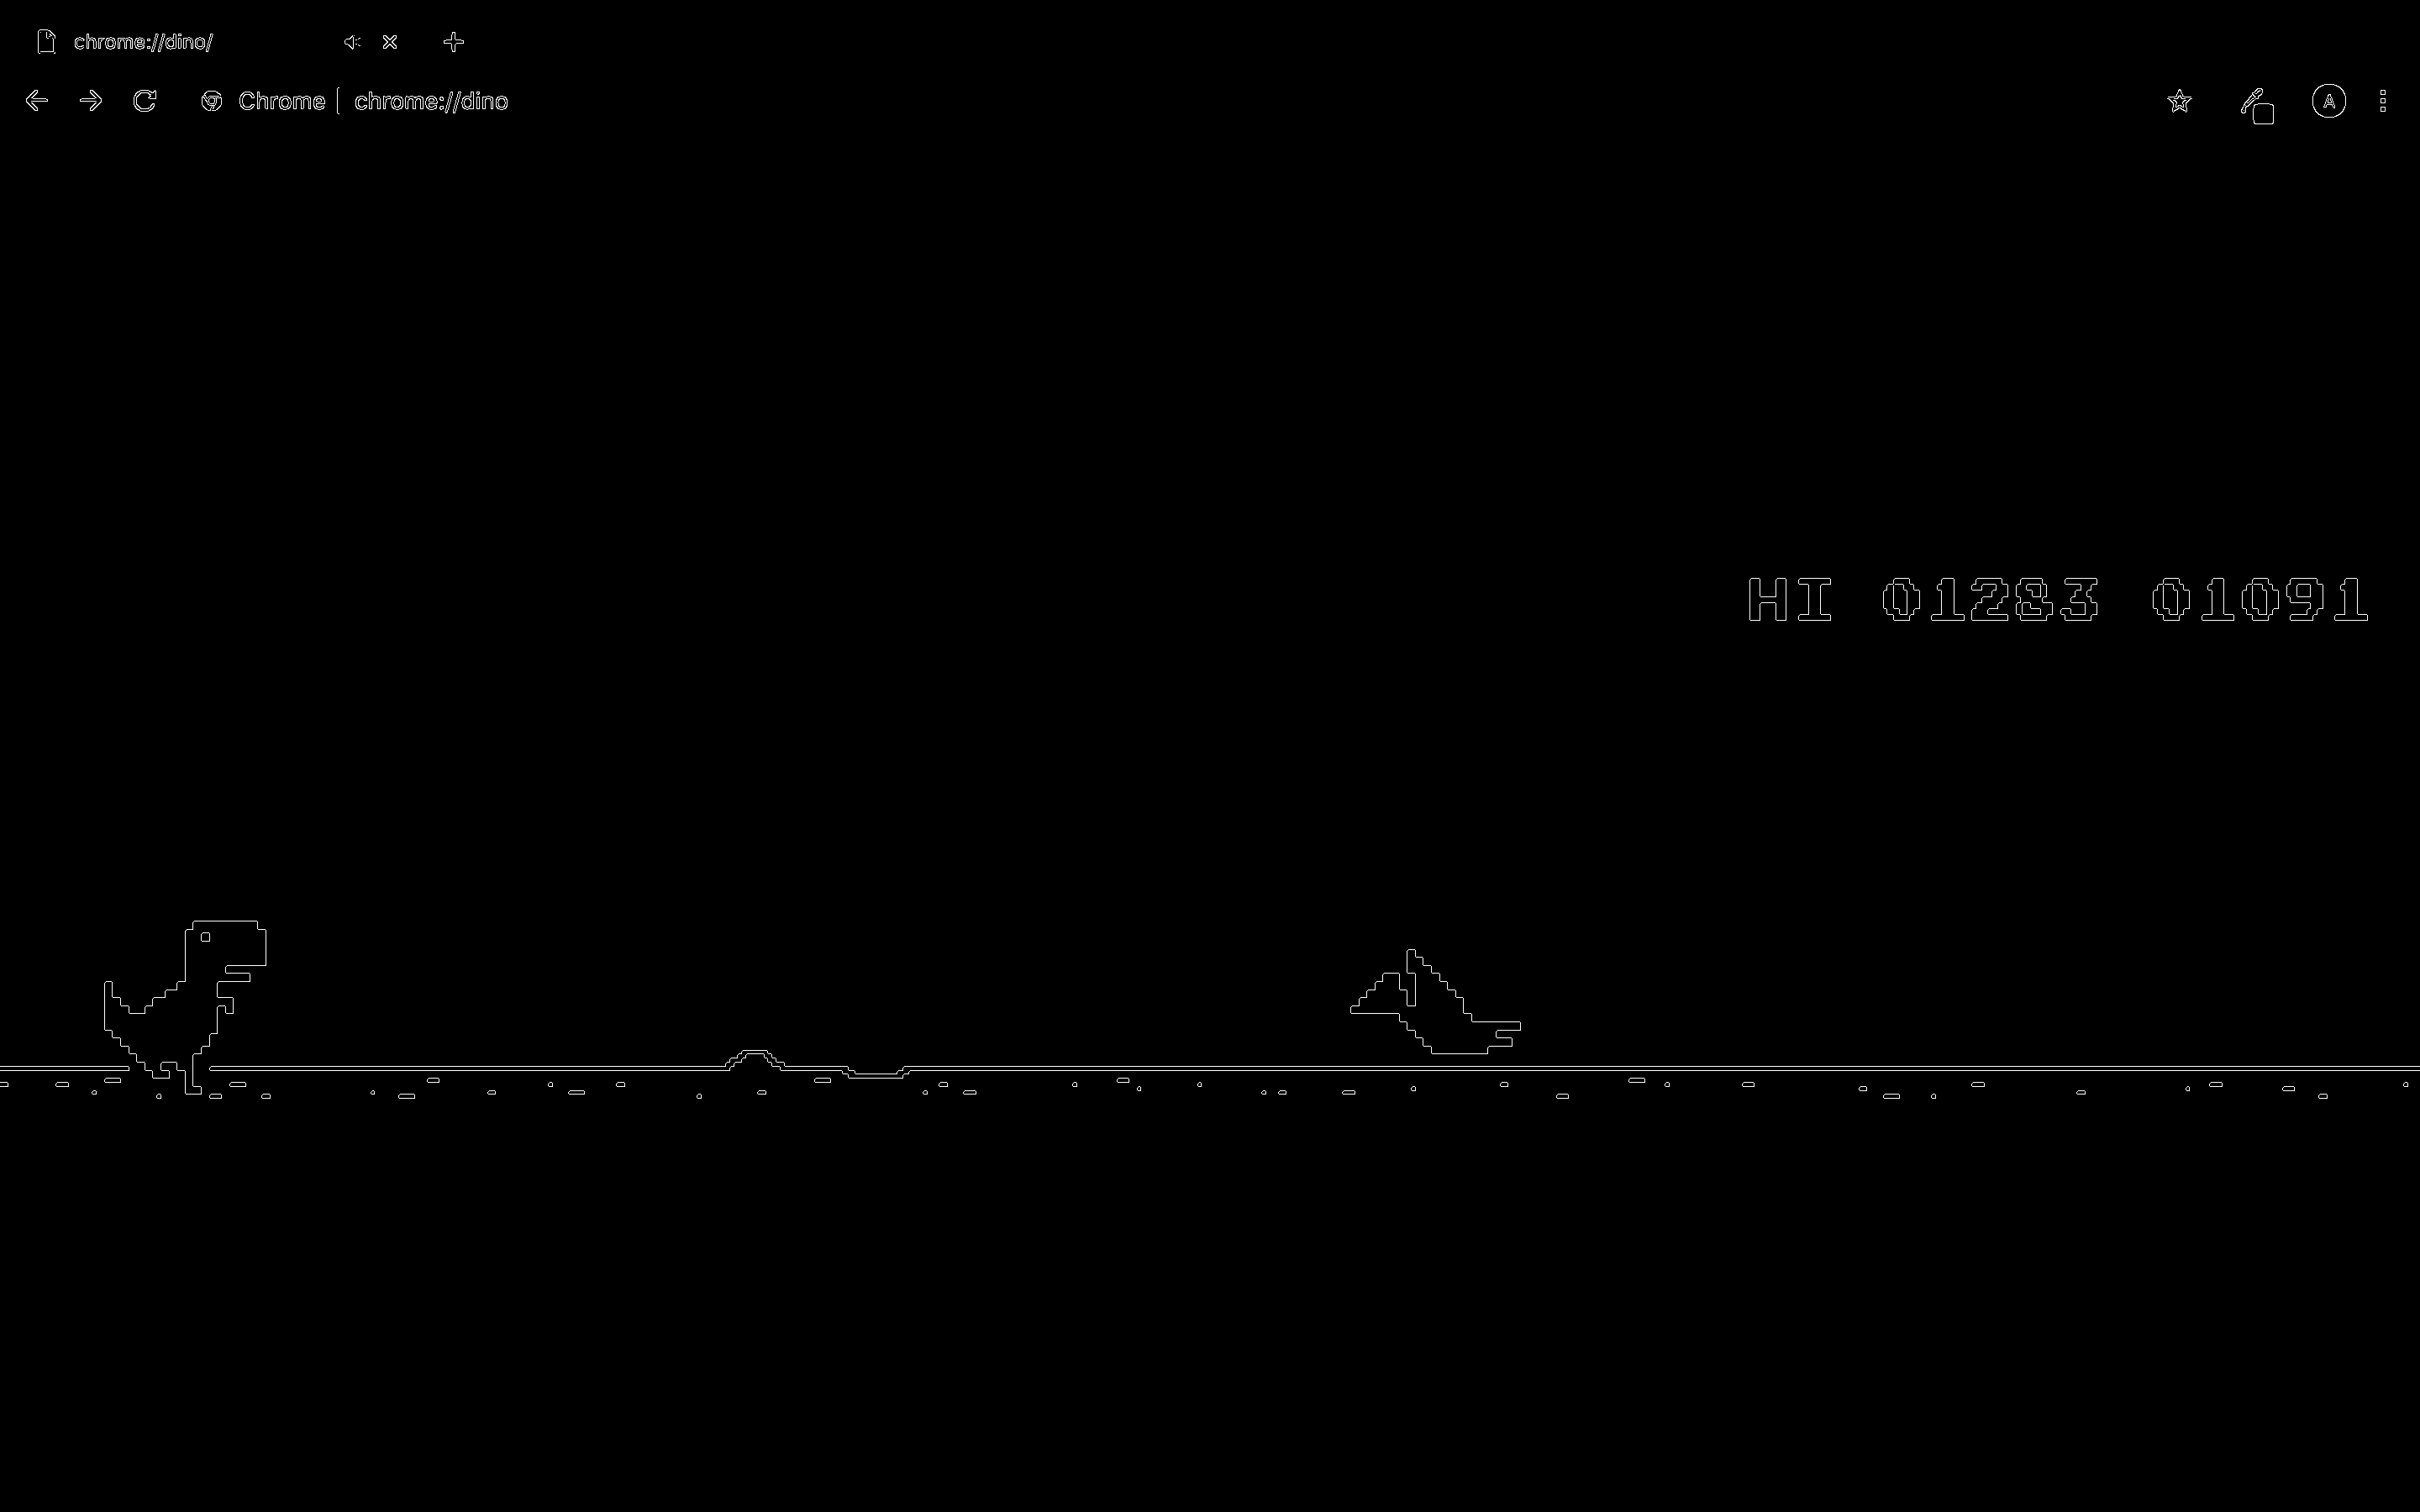Bird: (1349, 958, 1531, 1059)
Dino: (106, 911, 277, 1101)
